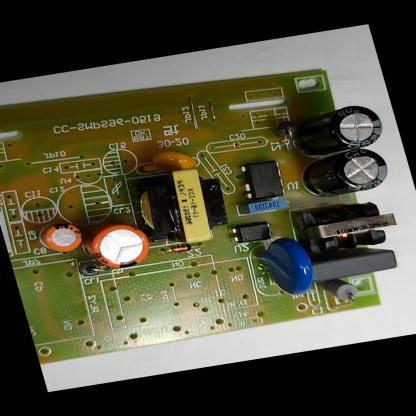Cap1: (80, 220, 158, 274)
Cap2: (37, 220, 88, 257)
Cap3: (294, 145, 394, 201)
Cap4: (291, 102, 388, 159)
MOSFET: (235, 158, 289, 203)
Mov: (252, 235, 318, 301)
Resistor: (317, 276, 364, 306)
Transformer: (130, 164, 235, 250), (294, 198, 404, 258)
